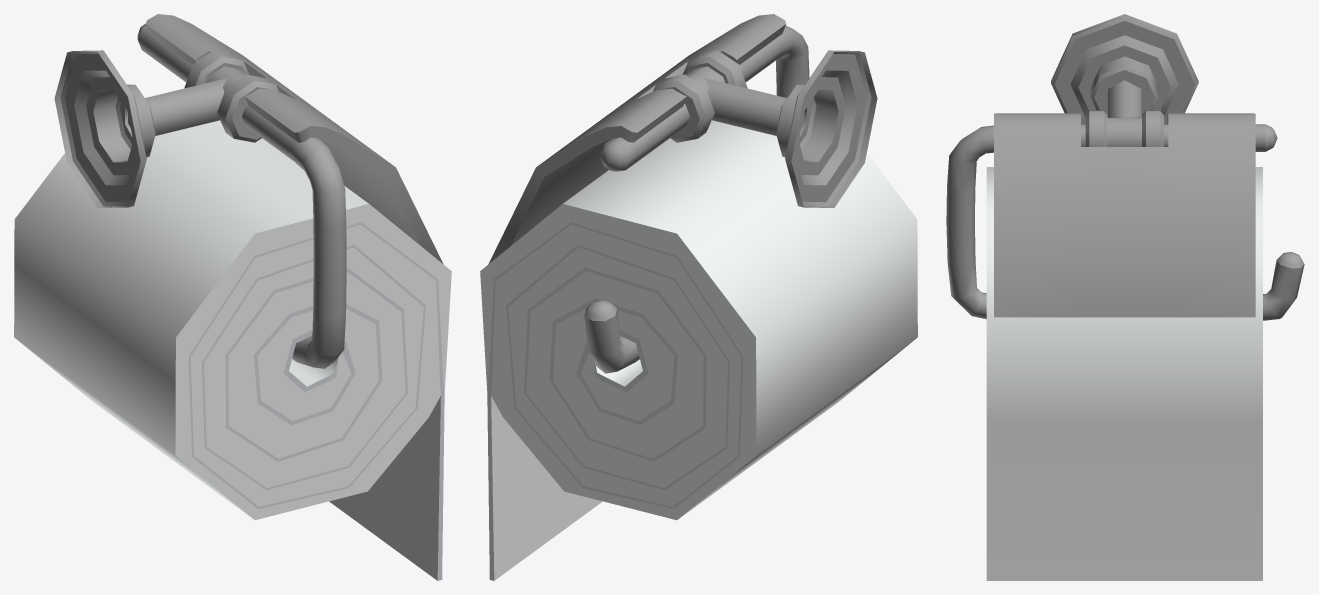
File: Toilet_paper.glb
The picture shows the model from 3 angles, left to right: view 1: azimuth 30°, elevation 25°; view 2: azimuth 150°, elevation 25°; view 3: azimuth 270°, elevation 25°; orthographic projection. The views are drawn at different scales.
Parts seen in each view (by area): view 1: Toilet_paper; view 2: Toilet_paper; view 3: Toilet_paper.
Boxes of the visible parts, box(x1,y1,x2,y2) form: Toilet_paper: box(14, 14, 451, 580); Toilet_paper: box(480, 14, 917, 580); Toilet_paper: box(946, 14, 1304, 580).
Bounding box in the file's own units: 0.1343 × 0.2476 × 0.176.
Materials: 3 (2 with a texture image).
